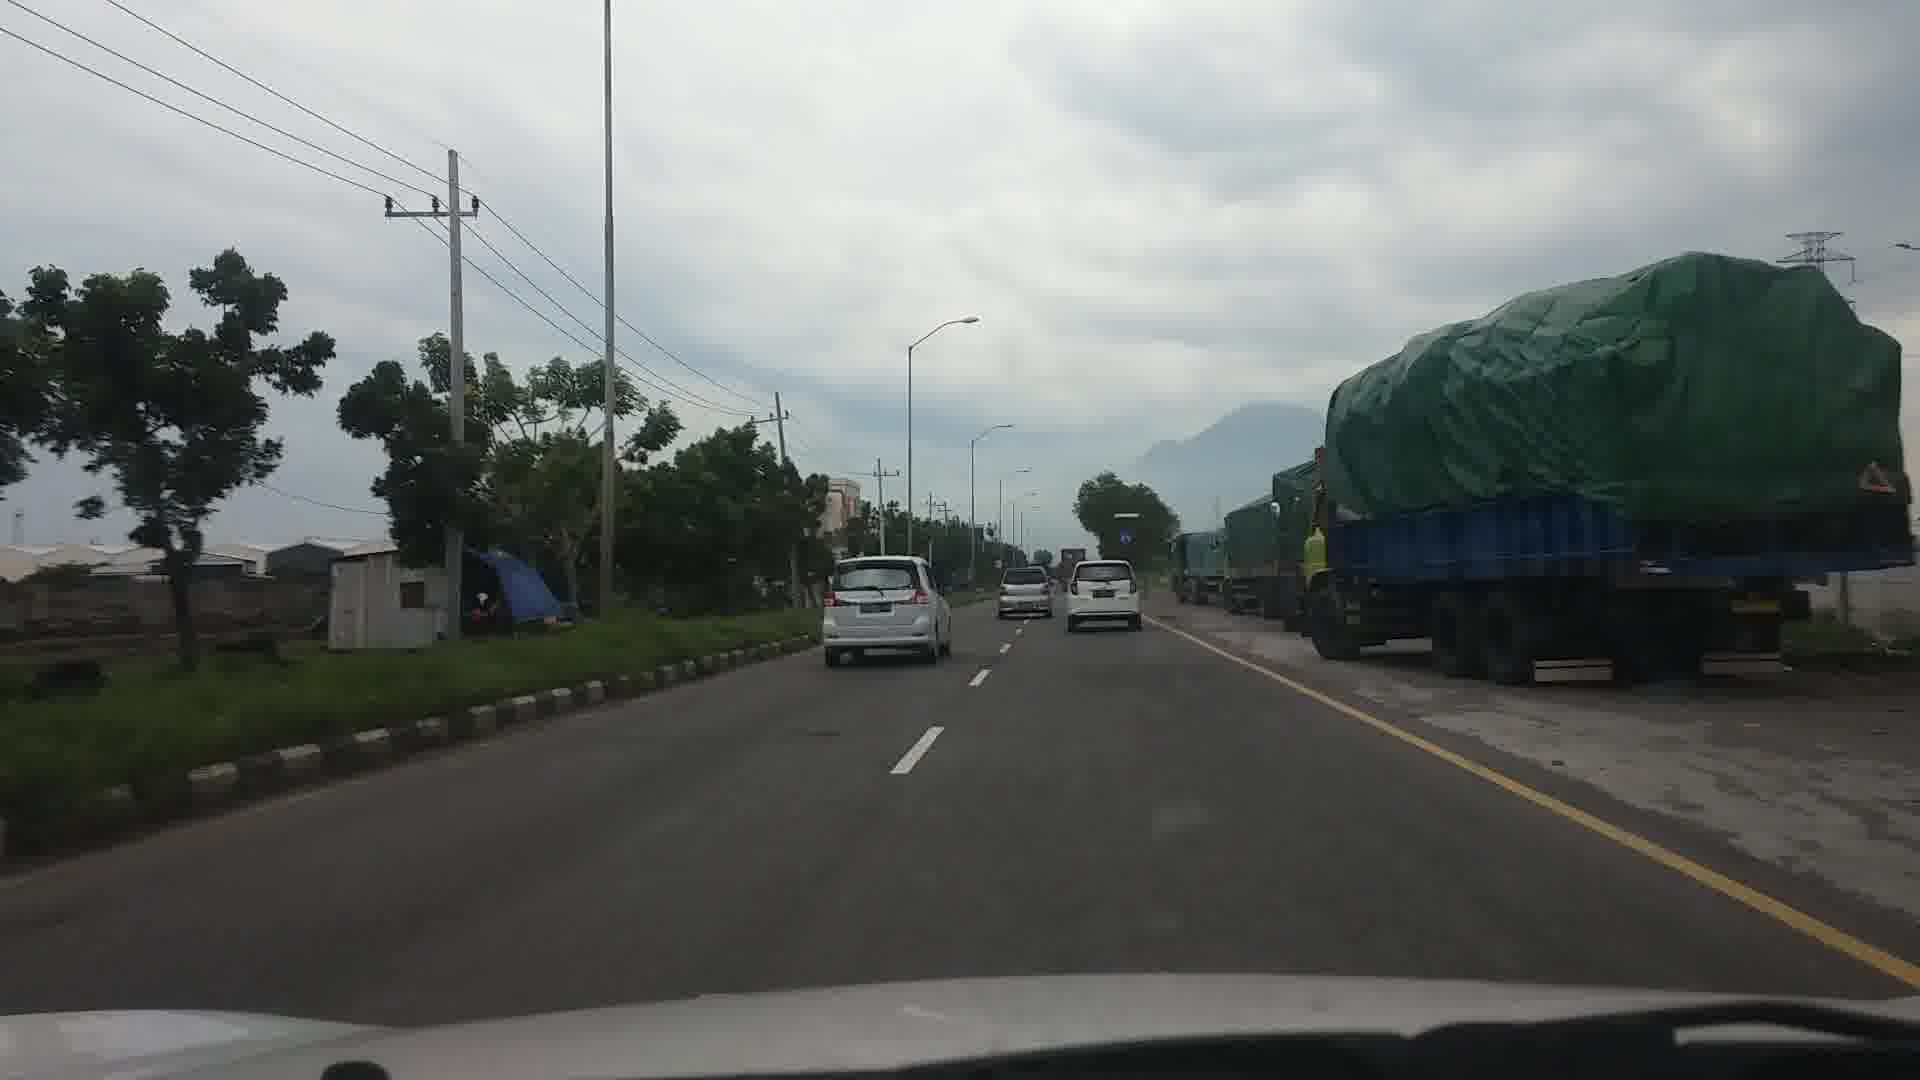plate_positive: (861, 603, 891, 613), (1093, 589, 1114, 597)
